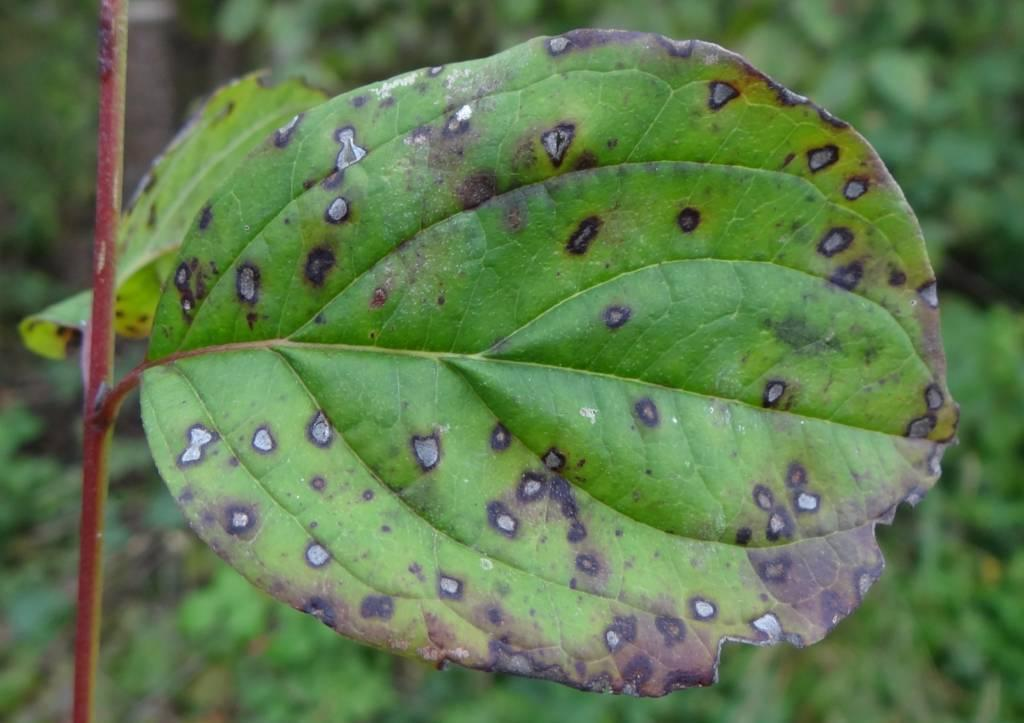black-spot: (301, 120, 847, 607)
